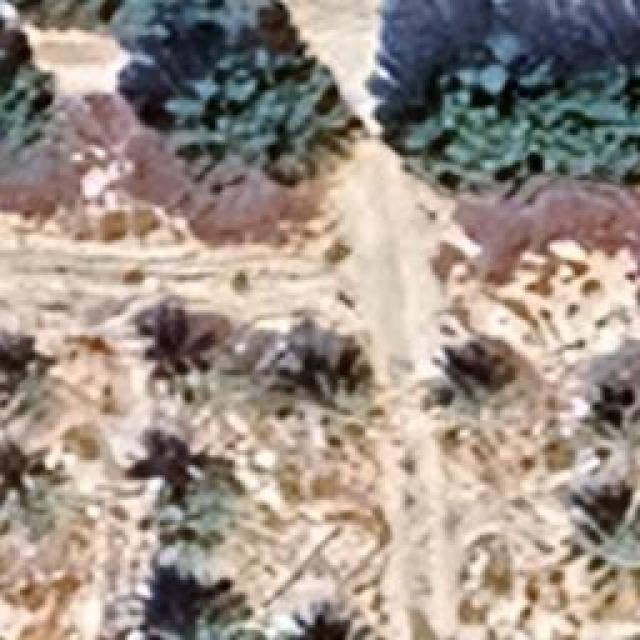PalmTree: (137, 314, 250, 416), (147, 448, 240, 554), (281, 356, 379, 446), (560, 518, 638, 608), (442, 356, 522, 442), (560, 388, 640, 474), (0, 458, 60, 566), (0, 360, 70, 438), (152, 587, 255, 640), (282, 600, 388, 638)
